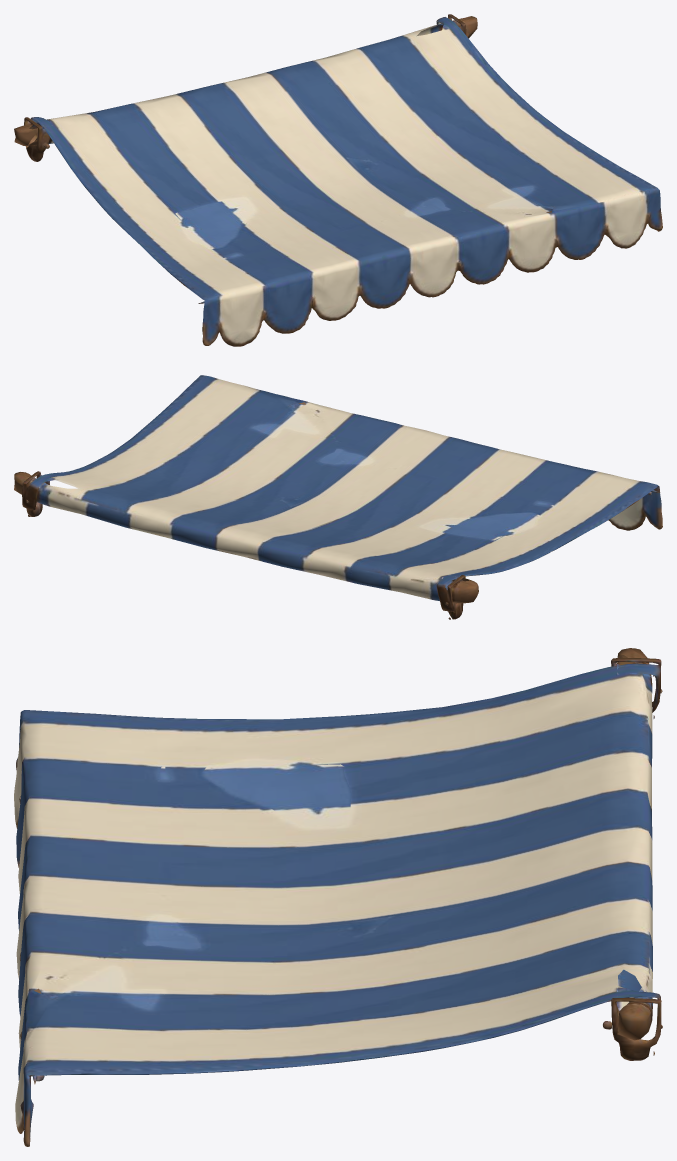
Rendered from AwningStriped.glb.
3 views of the same model, one above another, from view 1: azimuth 30°, elevation 25°; view 2: azimuth 150°, elevation 25°; view 3: azimuth 270°, elevation 25° (orthographic). The views are drawn at different scales.
Parts seen in each view (by area): view 1: AwningStriped; view 2: AwningStriped; view 3: AwningStriped.
Boxes of the visible parts, <box> form: AwningStriped: <box>14,14,662,346</box>; AwningStriped: <box>14,375,662,619</box>; AwningStriped: <box>14,648,662,1146</box>.
Size of the model in its own units: 2.86 by 0.5445 by 2.11.
1 material, 1 textured.
